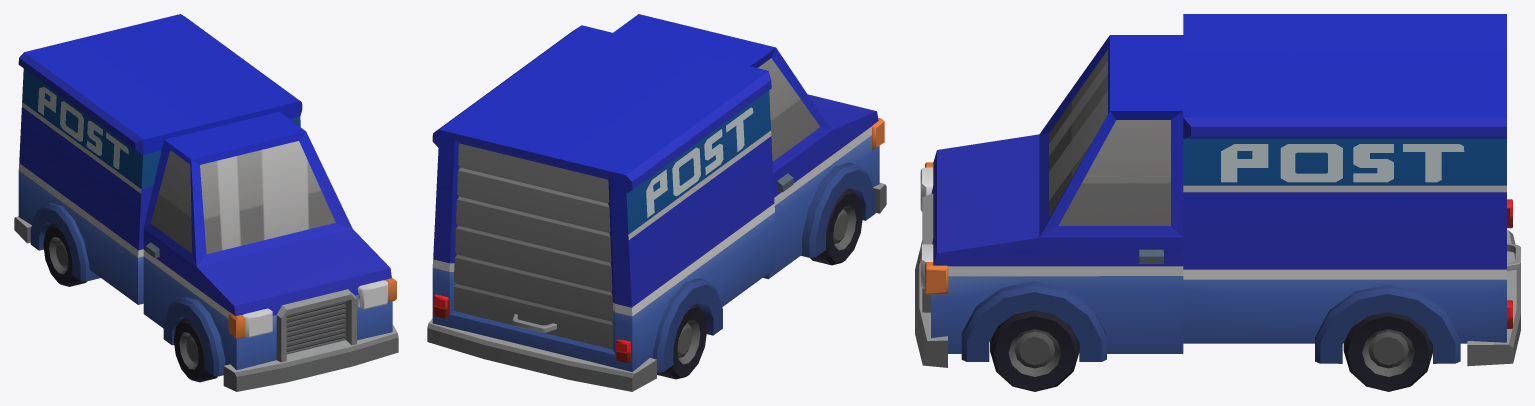
File: PostCar_1.glb
3 renders of one model, left to right at view 1: azimuth 30°, elevation 25°; view 2: azimuth 150°, elevation 25°; view 3: azimuth 270°, elevation 25°, orthographic. The views are drawn at different scales.
Visible parts, largest first — view 1: PostCar_1, Wheel_FR, Wheel_BR; view 2: PostCar_1, Wheel_FR, Wheel_BR; view 3: PostCar_1, Wheel_FL, Wheel_BL.
Boxes of the visible parts, <box> form: PostCar_1: <box>14,14,398,391</box>; Wheel_FR: <box>173,318,217,382</box>; Wheel_BR: <box>43,224,86,286</box>; PostCar_1: <box>427,14,886,391</box>; Wheel_FR: <box>810,188,863,265</box>; Wheel_BR: <box>657,304,707,379</box>; PostCar_1: <box>915,14,1520,367</box>; Wheel_FL: <box>990,310,1079,391</box>; Wheel_BL: <box>1343,312,1432,391</box>.
Bounding box in the file's own units: 1.18 × 1.24 × 2.51.
5 materials, 5 textured.
